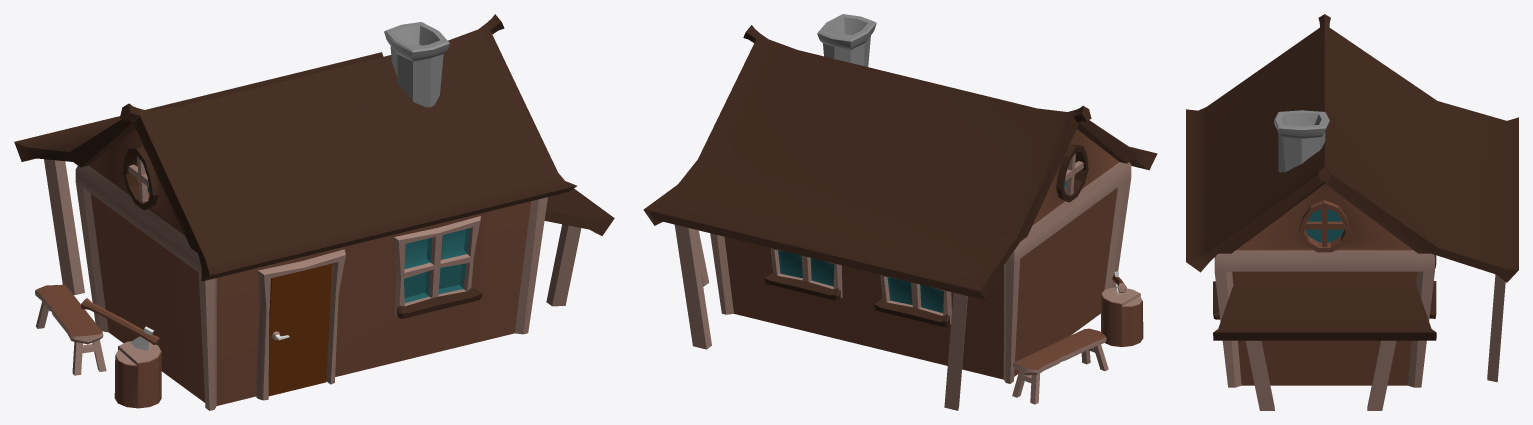
3 renders of one model, left to right at view 1: azimuth 30°, elevation 25°; view 2: azimuth 150°, elevation 25°; view 3: azimuth 270°, elevation 25°, orthographic. The views are drawn at different scales.
Visible parts, largest first — view 1: ForesterHouse; view 2: ForesterHouse; view 3: ForesterHouse.
Part boxes in pixels (x1,y1,x2,y2): ForesterHouse: (14, 14, 614, 410); ForesterHouse: (643, 14, 1157, 410); ForesterHouse: (1186, 14, 1518, 410).
Size of the model in its own units: 5.91 by 3.4 by 4.28.
